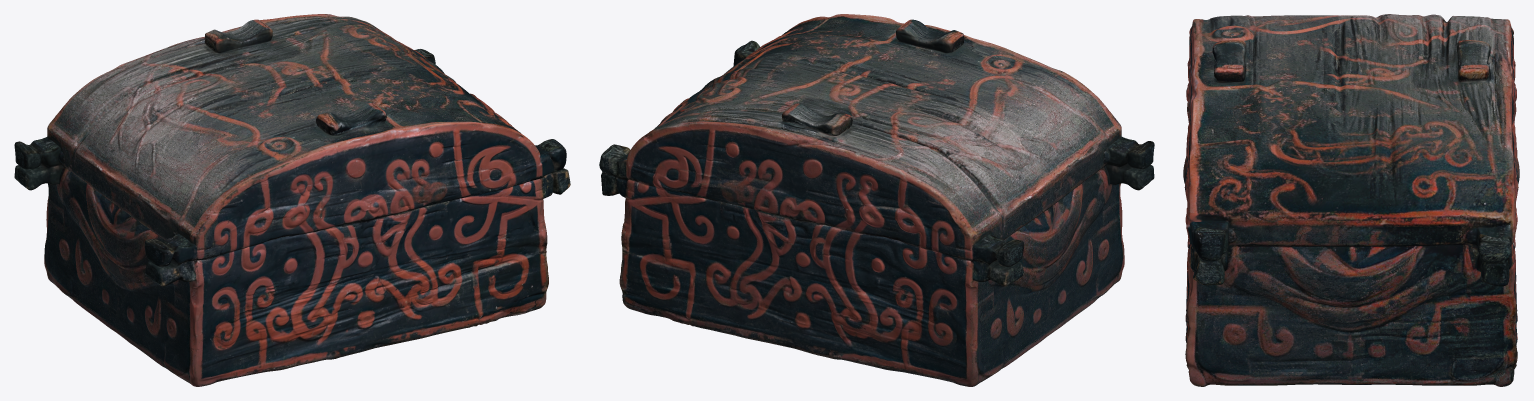
Rendered from star-chest.glb.
3 renders of one model, left to right at view 1: azimuth 30°, elevation 25°; view 2: azimuth 150°, elevation 25°; view 3: azimuth 270°, elevation 25°, orthographic. The views are drawn at different scales.
Parts seen in each view (by area): view 1: star-chest; view 2: star-chest; view 3: star-chest.
Boxes of the visible parts, x1,y1,x2,y2 form: star-chest: (14, 14, 570, 386); star-chest: (599, 14, 1154, 386); star-chest: (1183, 14, 1519, 386).
Bounding box in the file's own units: 0.9815 × 0.5182 × 0.6452.
Materials: 1 (1 with a texture image).
